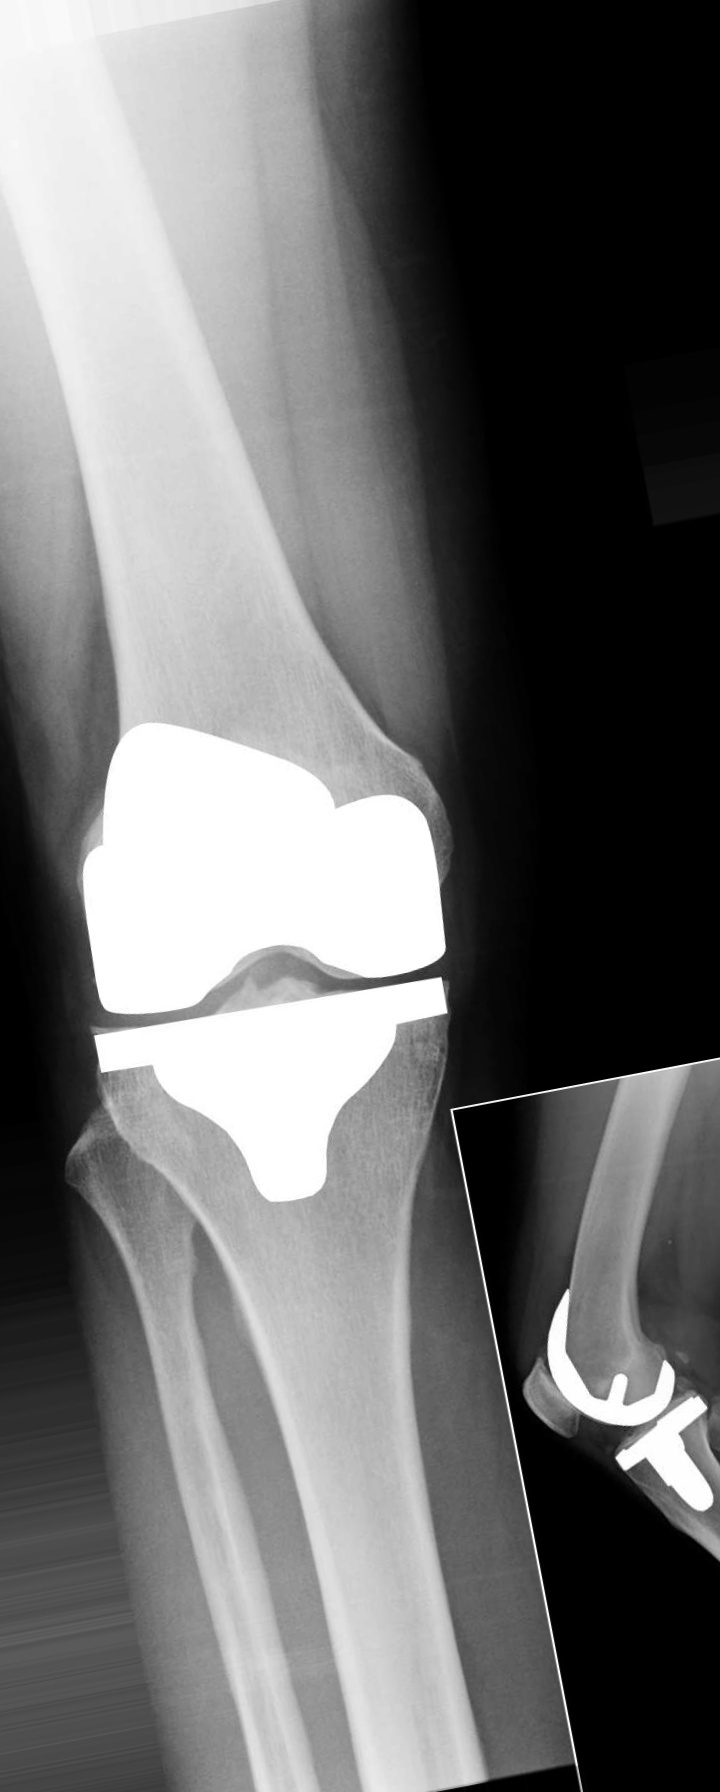Knee-Triathlon-Stryker: (77, 699, 448, 1205), (539, 1285, 712, 1520)
